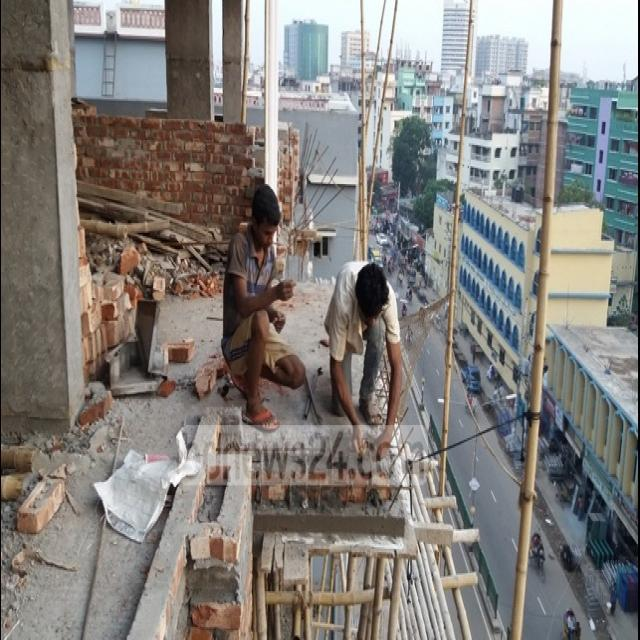no-boots: (228, 349, 284, 433)
no-gloves: (372, 405, 402, 461), (340, 406, 370, 460), (272, 264, 300, 303), (266, 305, 297, 339)
no-helmet: (339, 243, 400, 334), (230, 169, 288, 256)
no-vest: (220, 224, 279, 331)
person: (212, 159, 311, 437), (330, 222, 414, 464)
